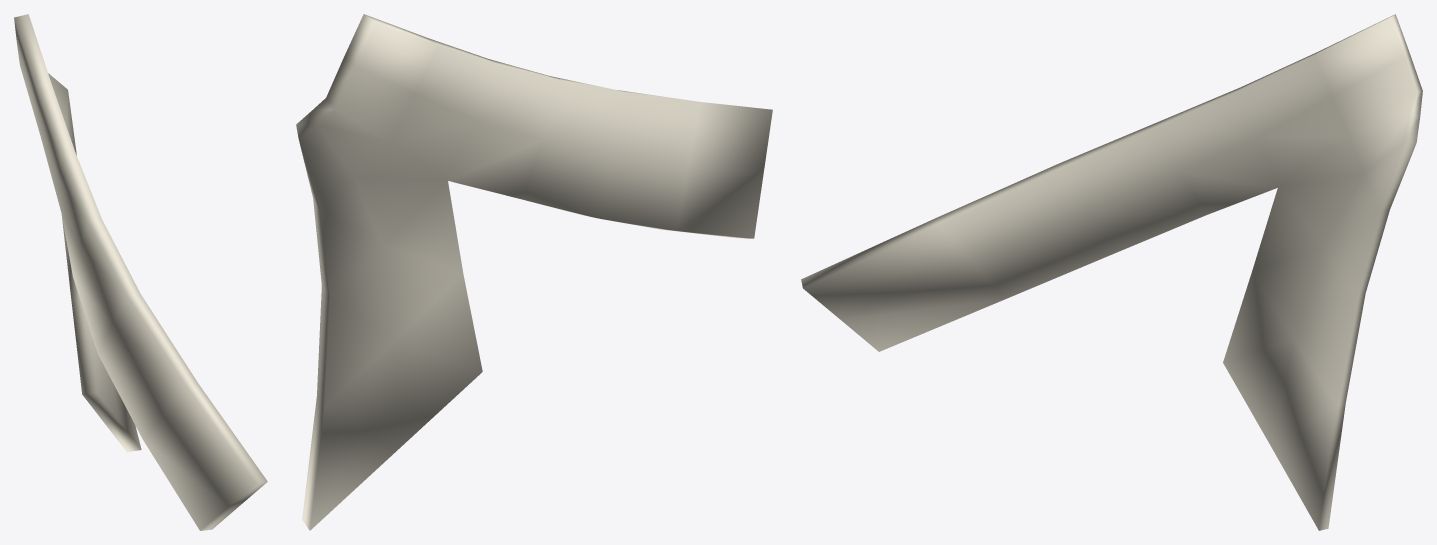
The picture shows the model from 3 angles, left to right: view 1: azimuth 30°, elevation 25°; view 2: azimuth 150°, elevation 25°; view 3: azimuth 270°, elevation 25°; orthographic projection. The views are drawn at different scales.
Visible parts, largest first — view 1: ZA_fc029b83e6ef0cf6; view 2: ZA_fc029b83e6ef0cf6; view 3: ZA_fc029b83e6ef0cf6.
Boxes of the visible parts, x1,y1,x2,y2 form: ZA_fc029b83e6ef0cf6: (14,14,267,530); ZA_fc029b83e6ef0cf6: (296,14,772,530); ZA_fc029b83e6ef0cf6: (801,14,1422,530).
Bounding box in the file's own units: 0.0055 × 0.0158 × 0.0189.
